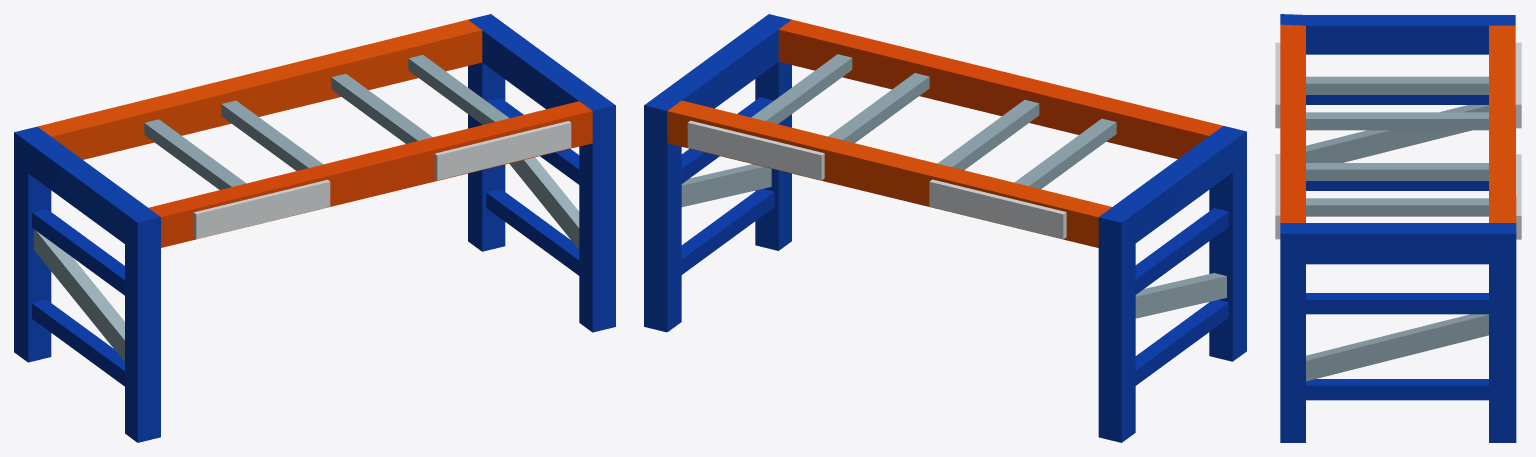
Rendered from FullRack48.fbx.
3 views of the same model, side by side, from view 1: azimuth 30°, elevation 25°; view 2: azimuth 150°, elevation 25°; view 3: azimuth 270°, elevation 25° (orthographic). The views are drawn at different scales.
Parts seen in each view (by area): view 1: ProtoRack.001, LabelRear.R, LabelRear.L; view 2: ProtoRack.001, LabelFront.R, LabelFront.L; view 3: ProtoRack.001, LabelFront.R, LabelRear.R, LabelFront.L, LabelRear.L.
Boxes of the visible parts, x1,y1,x2,y2 form: ProtoRack.001: (14,14,615,442); LabelRear.R: (193,179,330,239); LabelRear.L: (434,121,571,180); ProtoRack.001: (644,14,1246,442); LabelFront.R: (929,179,1066,239); LabelFront.L: (687,120,824,180); ProtoRack.001: (1280,14,1516,442); LabelFront.R: (1515,42,1521,128); LabelRear.R: (1275,42,1280,128); LabelFront.L: (1516,154,1521,239); LabelRear.L: (1275,154,1280,239).
Size of the model in its own units: 2.75 by 1.3 by 1.22.
